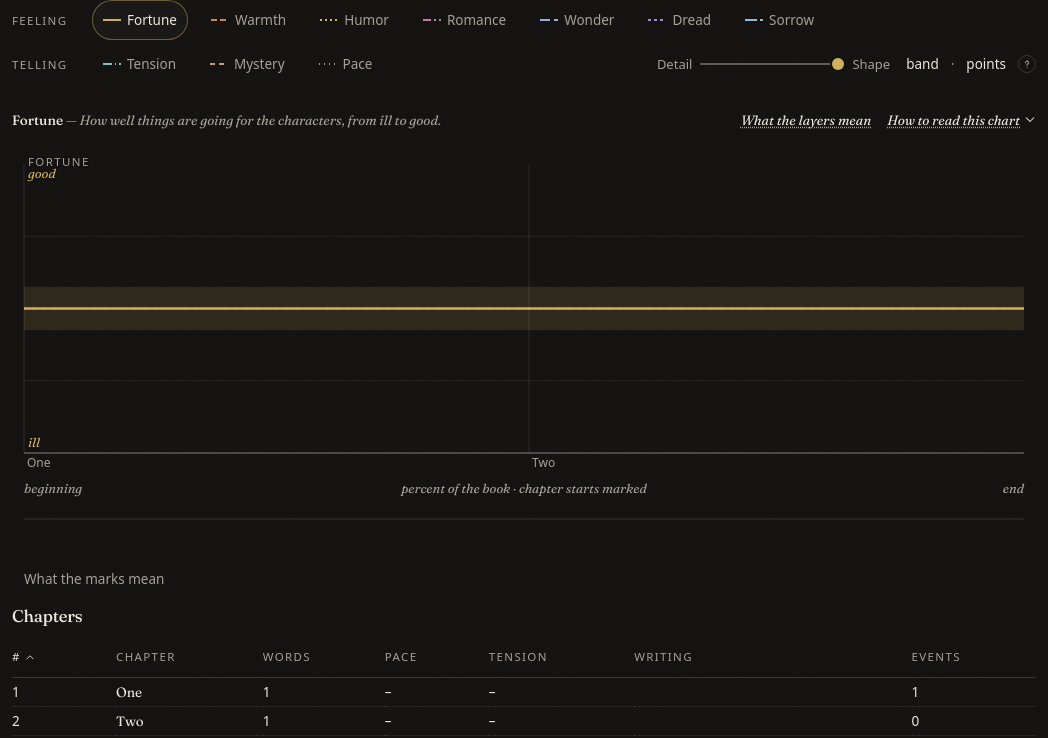
Test: a shared work opens its passages without the text
This screenshot has width=1048, height=738.
(page scrolled)
Click the row "1 One 1 – – 1" at (524, 692), box [12, 677, 1036, 707]
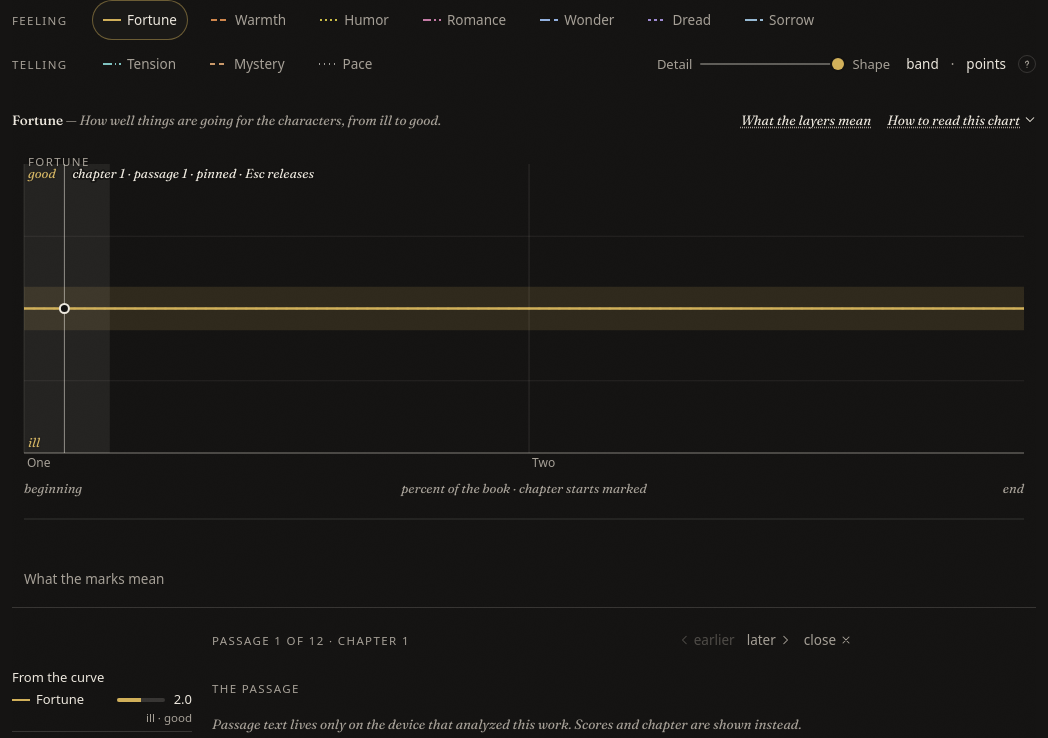
expect the text "lives only on the device" is shown: met, box [212, 716, 572, 732]
